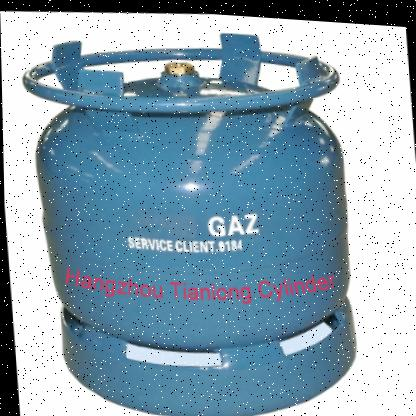gas-tank: (4, 17, 396, 415)
